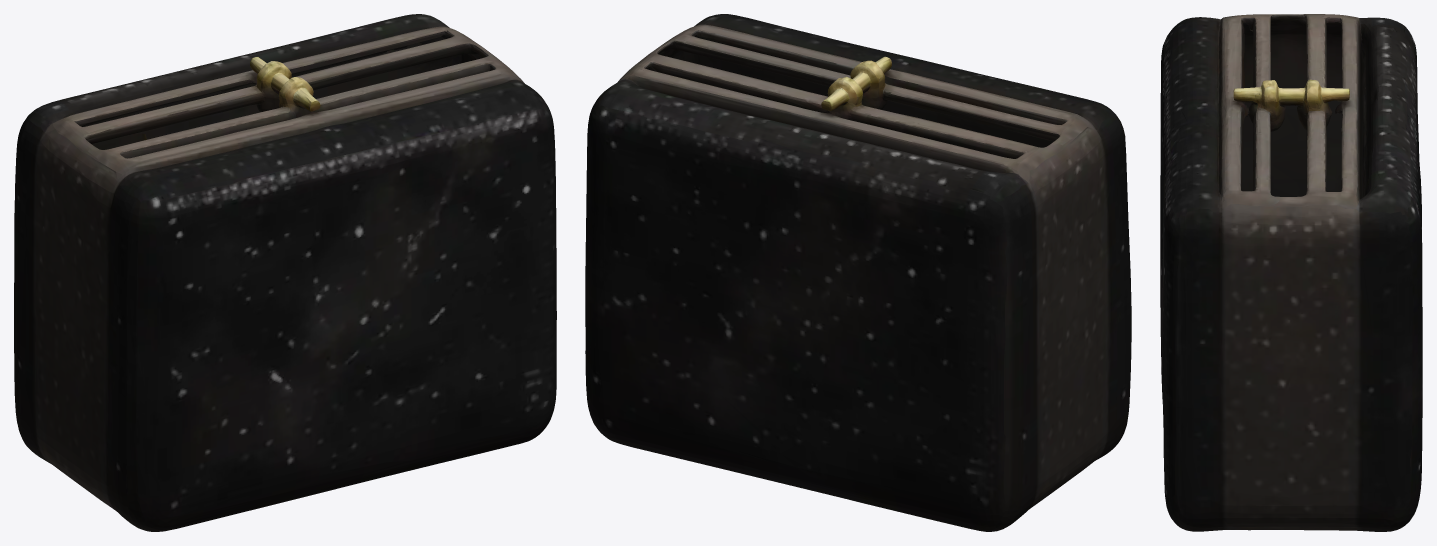
The model's file is suitcase_black.glb.
3 views of the same model, side by side, from view 1: azimuth 30°, elevation 25°; view 2: azimuth 150°, elevation 25°; view 3: azimuth 270°, elevation 25° (orthographic). The views are drawn at different scales.
Parts seen in each view (by area): view 1: geometry_0; view 2: geometry_0; view 3: geometry_0.
Boxes of the visible parts, box(x1,y1,x2,y2) form: geometry_0: box(14, 14, 556, 531); geometry_0: box(585, 14, 1131, 531); geometry_0: box(1160, 14, 1422, 531).
Bounding box in the file's own units: 0.9931 × 0.8278 × 0.5424.
1 material, 1 textured.
